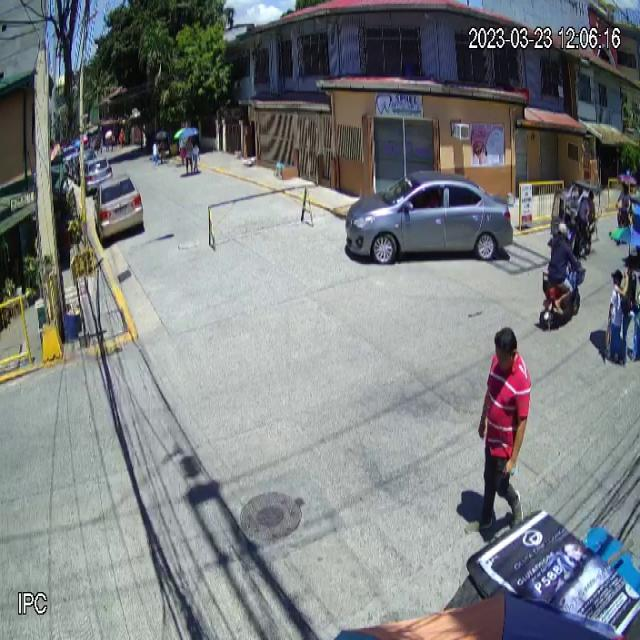Car: (345, 169, 513, 268)
